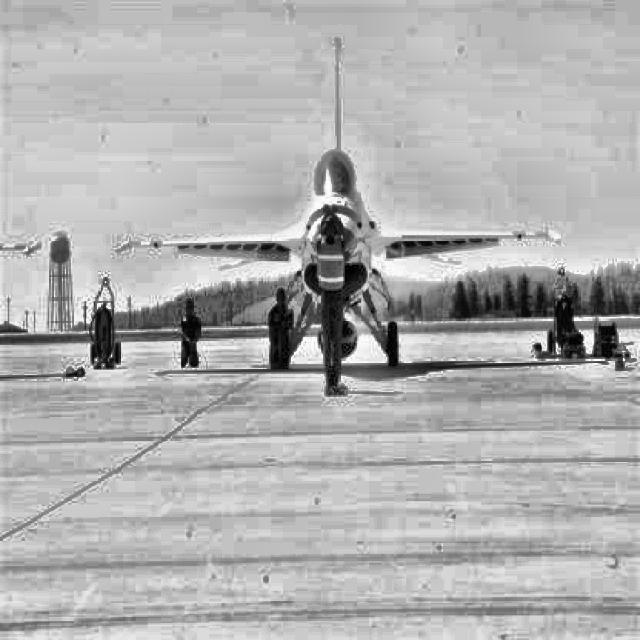F16: (116, 37, 562, 372)
